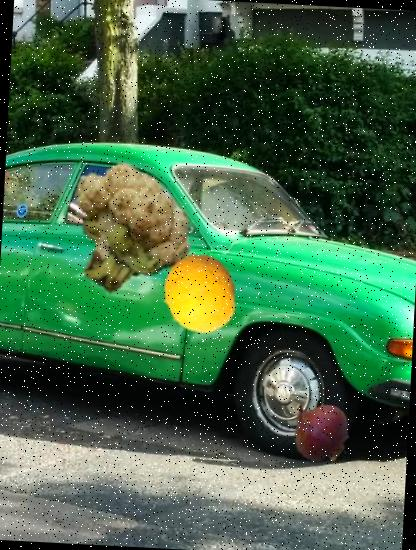Cantaloupe: (157, 252, 241, 336)
Cauliflower: (54, 157, 194, 297)
Onion: (286, 396, 352, 464)
